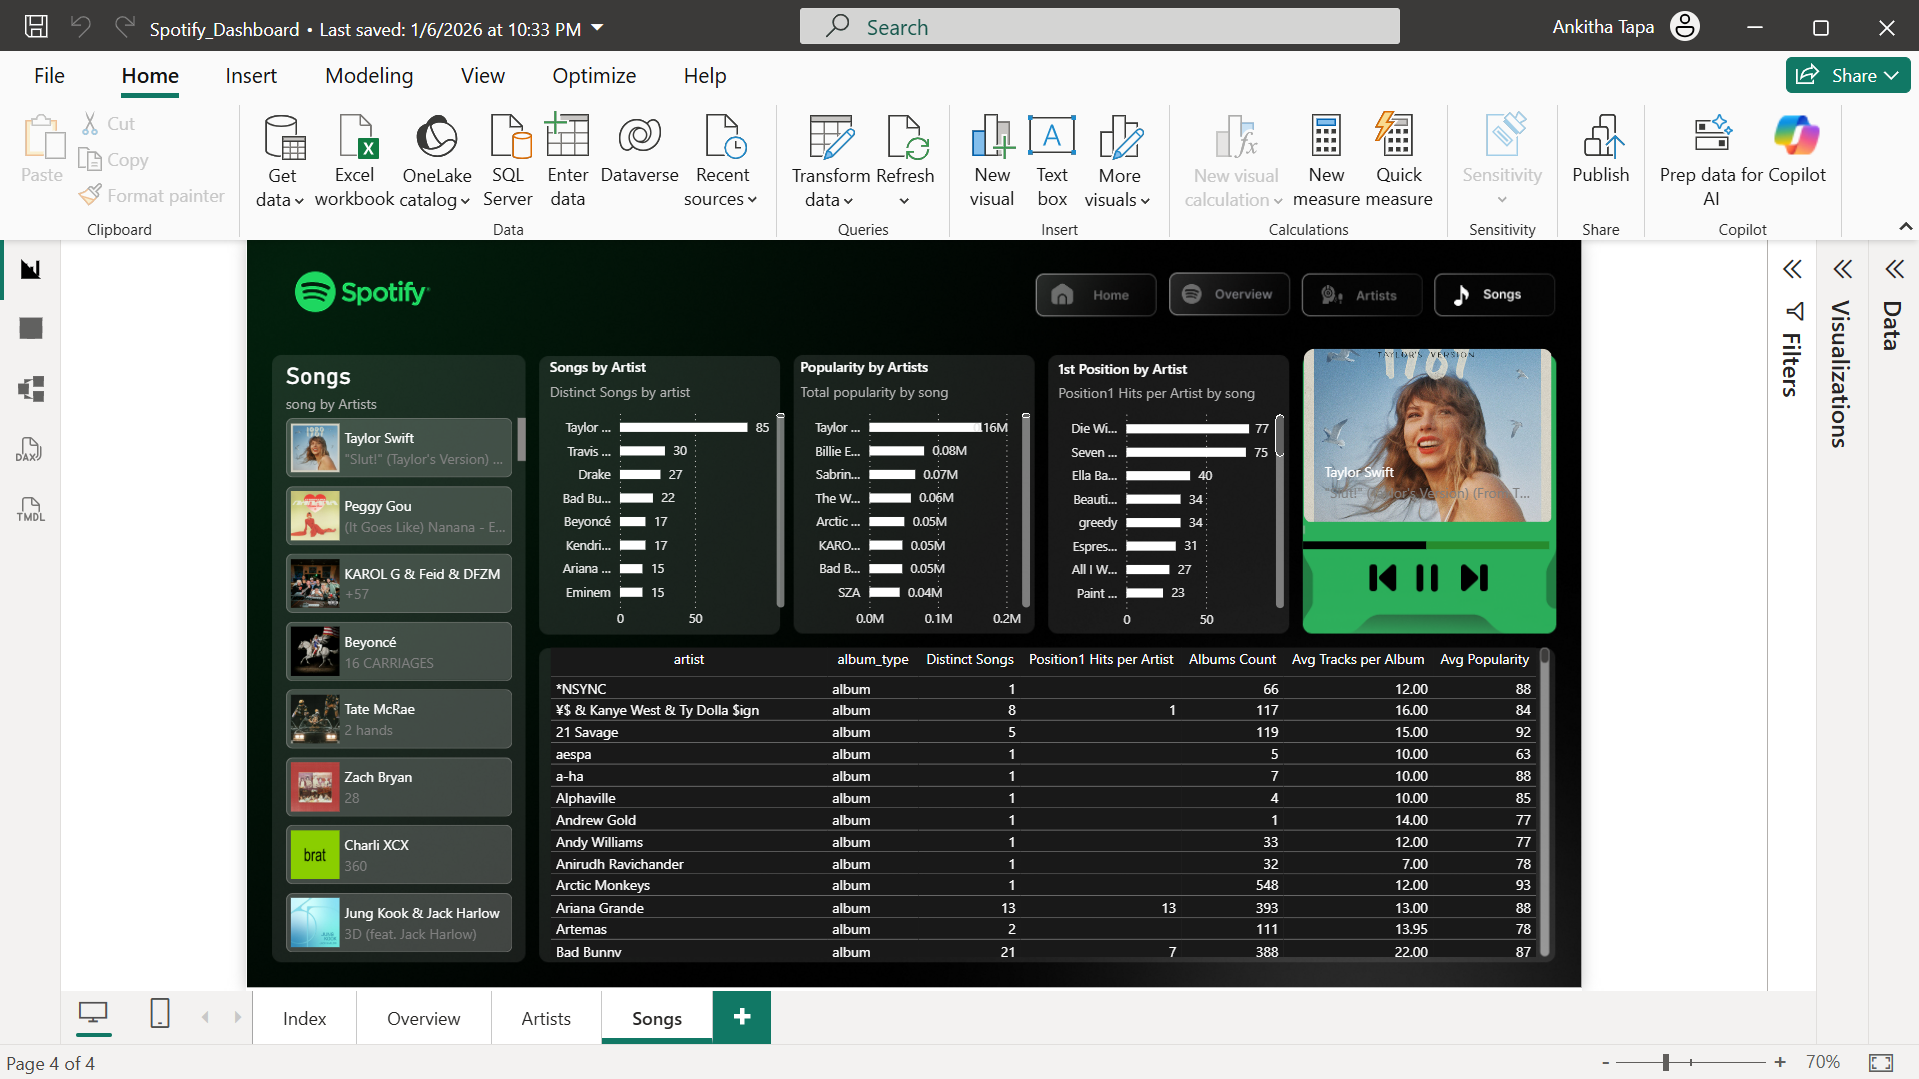

What the dashboard file says about the page in this screenshot:
{"tool":"powerbi","page":{"name":"Songs","canvas":[1280,720],"ordinal":3},"visuals":[{"type":"actionButton","box":[757.4,31.5,116.3,40.3],"z":0},{"type":"actionButton","box":[1011.7,31.5,116.3,40.3],"z":1000},{"type":"actionButton","box":[1138.9,31.5,116.3,40.3],"z":2000},{"type":"actionButton","box":[884.5,31.5,116.3,40.3],"z":3000},{"type":"advancedSlicerVisual","title":"Songs","fields":{"Values":["Top-50-World.song"]},"box":[32.6,116.3,240.4,572.3],"z":7000},{"type":"tableEx","fields":{"Values":["Top-50-World.artist","Top-50-World.album_type","_Measures.Distinct Songs","_Measures.Position1 Hits per Artist","_Measures.Albums Count","_Measures.Avg Tracks per Album","_Measures.Avg Popularity"]},"box":[286.8,385.1,968.5,306.2],"z":8000},{"type":"advancedSlicerVisual","title":"Songs","fields":{"Values":["Top-50-World.song"]},"box":[1008.8,98.3,249.8,191.8],"z":8001},{"type":"hundredPercentStackedBarChart","fields":{"Y":["_Measures.Avg Popularity","Avg(Top-50-World.popularity)"]},"box":[1008.8,254.6,246.5,69.3],"z":8002},{"type":"image","box":[1070,309.4,40.3,29],"z":8003},{"type":"image","box":[1157,309.4,40.3,29],"z":8004},{"type":"image","box":[1113.5,309.4,38.7,29],"z":8005},{"type":"shape","box":[1008.8,104.7,251.4,277.2],"z":8006},{"type":"clusteredBarChart","title":"Songs by Artist","fields":{"Category":["Top-50-World.artist"],"Y":["_Measures.Distinct Songs"]},"box":[286.8,112.8,235.3,269.1],"z":8007},{"type":"clusteredBarChart","title":"Popularity by Artists","fields":{"Category":["Top-50-World.artist"],"Y":["Sum(Top-50-World.popularity)"]},"box":[526.9,112.8,230.4,269.1],"z":8008},{"type":"clusteredBarChart","title":"1st Position by Artist","fields":{"Category":["Top-50-World.song"],"Y":["_Measures.Position1 Hits per Artist"]},"box":[773.9,113.2,226.4,268.3],"z":8009}]}

Visuals, with their boxes on the page's 1280x720 design canvas (x1, y1, x2, y2). These are canvas units, not pixel positions in the 1919x1079 screenshot, which may show the page scaled, cropped or inside an application window:
actionButton: 757:32:874:72
actionButton: 1012:32:1128:72
actionButton: 1139:32:1255:72
actionButton: 884:32:1001:72
"Songs" advancedSlicerVisual: 33:116:273:689
tableEx - Top-50-World.artist x Top-50-World.album_type: 287:385:1255:691
"Songs" advancedSlicerVisual: 1009:98:1259:290
hundredPercentStackedBarChart - _Measures.Avg Popularity x Avg(Top-50-World.popularity): 1009:255:1255:324
image: 1070:309:1110:338
image: 1157:309:1197:338
image: 1114:309:1152:338
shape: 1009:105:1260:382
"Songs by Artist" clusteredBarChart: 287:113:522:382
"Popularity by Artists" clusteredBarChart: 527:113:757:382
"1st Position by Artist" clusteredBarChart: 774:113:1000:382
